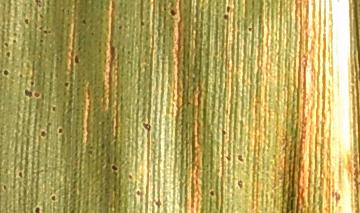tarspot: (154, 198, 165, 209), (140, 121, 152, 131), (223, 149, 232, 162), (23, 88, 33, 99), (33, 90, 42, 100), (236, 153, 244, 164), (3, 40, 11, 51), (73, 53, 79, 67), (207, 189, 216, 198), (168, 8, 177, 17), (1, 68, 10, 77), (235, 179, 243, 189), (220, 127, 228, 137), (40, 129, 48, 139), (224, 5, 232, 15), (17, 169, 24, 180), (110, 164, 119, 172), (28, 78, 36, 87), (32, 1, 44, 7), (33, 205, 41, 213), (222, 13, 230, 21), (11, 31, 19, 39), (57, 126, 64, 135), (62, 81, 71, 88), (38, 12, 45, 21), (116, 24, 125, 31), (50, 193, 56, 203), (81, 17, 87, 27), (246, 26, 254, 33), (126, 172, 133, 180), (5, 50, 12, 58), (138, 19, 145, 27), (22, 18, 30, 25), (51, 104, 57, 113), (17, 72, 24, 79), (2, 184, 8, 192), (126, 48, 132, 56), (135, 189, 141, 196), (37, 24, 43, 31), (42, 28, 48, 35), (12, 38, 18, 45), (66, 21, 71, 29), (38, 37, 44, 43)
